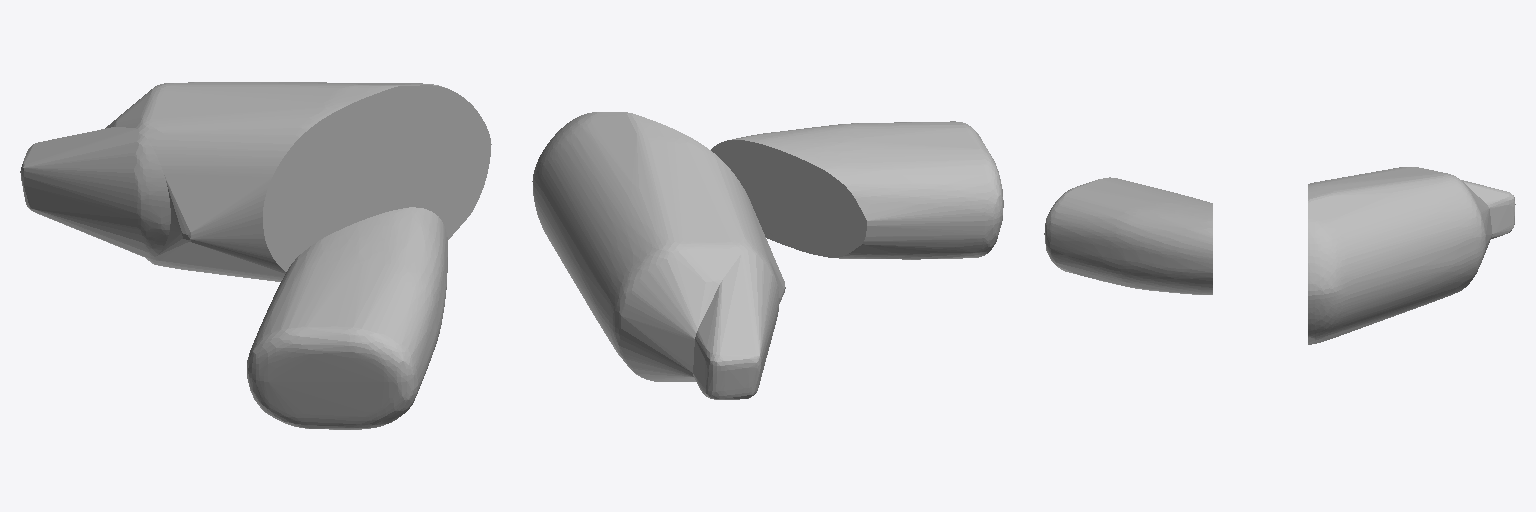
URDF robot description (root):
<robot name="root">
  <link name="link_coacd_convex_piece_0">
    <inertial>
      <origin xyz="0 0 0" rpy="0 0 0"/>
      <inertia ixx="1.12E-08" ixy="2.76E-09" ixz="-8.21E-10" iyy="1.61E-08" iyz="-2.81E-09" izz="2.12E-08"/>
    </inertial>
    <visual>
      <origin xyz="0 0 0" rpy="0 0 0"/>
      <geometry>
        <mesh filename="coacd_convex_piece_0.obj" scale="1.0000E+00 1.0000E+00 1.0000E+00"/>
      </geometry>
      <material name="">
        <color rgba="7.50E-01 7.50E-01 7.50E-01 1"/>
      </material>
    </visual>
    <collision>
      <origin xyz="0 0 0" rpy="0 0 0"/>
      <geometry>
        <mesh filename="coacd_convex_piece_0.obj" scale="1.0000E+00 1.0000E+00 1.0000E+00"/>
      </geometry>
    </collision>
  </link>
  <link name="link_coacd_convex_piece_1">
    <inertial>
      <origin xyz="0 0 0" rpy="0 0 0"/>
      <inertia ixx="2.58E-07" ixy="-1.01E-07" ixz="-1.90E-08" iyy="7.35E-08" iyz="-4.38E-08" izz="3.06E-07"/>
    </inertial>
    <visual>
      <origin xyz="0 0 0" rpy="0 0 0"/>
      <geometry>
        <mesh filename="coacd_convex_piece_1.obj" scale="1.0000E+00 1.0000E+00 1.0000E+00"/>
      </geometry>
      <material name="">
        <color rgba="7.50E-01 7.50E-01 7.50E-01 1"/>
      </material>
    </visual>
    <collision>
      <origin xyz="0 0 0" rpy="0 0 0"/>
      <geometry>
        <mesh filename="coacd_convex_piece_1.obj" scale="1.0000E+00 1.0000E+00 1.0000E+00"/>
      </geometry>
    </collision>
  </link>
  <joint name="link_coacd_convex_piece_1_joint" type="fixed">
    <origin xyz="0 0 0" rpy="0 0 0"/>
    <parent link="link_coacd_convex_piece_0"/>
    <child link="link_coacd_convex_piece_1"/>
  </joint>
  <link name="link_coacd_convex_piece_2">
    <inertial>
      <origin xyz="0 0 0" rpy="0 0 0"/>
      <inertia ixx="6.75E-08" ixy="4.12E-08" ixz="-4.39E-09" iyy="2.76E-08" iyz="6.67E-09" izz="9.23E-08"/>
    </inertial>
    <visual>
      <origin xyz="0 0 0" rpy="0 0 0"/>
      <geometry>
        <mesh filename="coacd_convex_piece_2.obj" scale="1.0000E+00 1.0000E+00 1.0000E+00"/>
      </geometry>
      <material name="">
        <color rgba="7.50E-01 7.50E-01 7.50E-01 1"/>
      </material>
    </visual>
    <collision>
      <origin xyz="0 0 0" rpy="0 0 0"/>
      <geometry>
        <mesh filename="coacd_convex_piece_2.obj" scale="1.0000E+00 1.0000E+00 1.0000E+00"/>
      </geometry>
    </collision>
  </link>
  <joint name="link_coacd_convex_piece_2_joint" type="fixed">
    <origin xyz="0 0 0" rpy="0 0 0"/>
    <parent link="link_coacd_convex_piece_1"/>
    <child link="link_coacd_convex_piece_2"/>
  </joint>
  <link name="link_coacd_convex_piece_3">
    <inertial>
      <origin xyz="0 0 0" rpy="0 0 0"/>
      <inertia ixx="5.58E-09" ixy="-3.90E-09" ixz="-5.80E-10" iyy="2.93E-08" iyz="-6.93E-10" izz="2.38E-08"/>
    </inertial>
    <visual>
      <origin xyz="0 0 0" rpy="0 0 0"/>
      <geometry>
        <mesh filename="coacd_convex_piece_3.obj" scale="1.0000E+00 1.0000E+00 1.0000E+00"/>
      </geometry>
      <material name="">
        <color rgba="7.50E-01 7.50E-01 7.50E-01 1"/>
      </material>
    </visual>
    <collision>
      <origin xyz="0 0 0" rpy="0 0 0"/>
      <geometry>
        <mesh filename="coacd_convex_piece_3.obj" scale="1.0000E+00 1.0000E+00 1.0000E+00"/>
      </geometry>
    </collision>
  </link>
  <joint name="link_coacd_convex_piece_3_joint" type="fixed">
    <origin xyz="0 0 0" rpy="0 0 0"/>
    <parent link="link_coacd_convex_piece_2"/>
    <child link="link_coacd_convex_piece_3"/>
  </joint>
  <link name="link_coacd_convex_piece_4">
    <inertial>
      <origin xyz="0 0 0" rpy="0 0 0"/>
      <inertia ixx="3.58E-09" ixy="1.65E-09" ixz="-6.92E-10" iyy="2.64E-08" iyz="-7.59E-10" izz="2.14E-08"/>
    </inertial>
    <visual>
      <origin xyz="0 0 0" rpy="0 0 0"/>
      <geometry>
        <mesh filename="coacd_convex_piece_4.obj" scale="1.0000E+00 1.0000E+00 1.0000E+00"/>
      </geometry>
      <material name="">
        <color rgba="7.50E-01 7.50E-01 7.50E-01 1"/>
      </material>
    </visual>
    <collision>
      <origin xyz="0 0 0" rpy="0 0 0"/>
      <geometry>
        <mesh filename="coacd_convex_piece_4.obj" scale="1.0000E+00 1.0000E+00 1.0000E+00"/>
      </geometry>
    </collision>
  </link>
  <joint name="link_coacd_convex_piece_4_joint" type="fixed">
    <origin xyz="0 0 0" rpy="0 0 0"/>
    <parent link="link_coacd_convex_piece_3"/>
    <child link="link_coacd_convex_piece_4"/>
  </joint>
  <link name="link_coacd_convex_piece_5">
    <inertial>
      <origin xyz="0 0 0" rpy="0 0 0"/>
      <inertia ixx="3.18E-07" ixy="1.43E-08" ixz="-5.58E-09" iyy="1.11E-07" iyz="1.67E-08" izz="3.67E-07"/>
    </inertial>
    <visual>
      <origin xyz="0 0 0" rpy="0 0 0"/>
      <geometry>
        <mesh filename="coacd_convex_piece_5.obj" scale="1.0000E+00 1.0000E+00 1.0000E+00"/>
      </geometry>
      <material name="">
        <color rgba="7.50E-01 7.50E-01 7.50E-01 1"/>
      </material>
    </visual>
    <collision>
      <origin xyz="0 0 0" rpy="0 0 0"/>
      <geometry>
        <mesh filename="coacd_convex_piece_5.obj" scale="1.0000E+00 1.0000E+00 1.0000E+00"/>
      </geometry>
    </collision>
  </link>
  <joint name="link_coacd_convex_piece_5_joint" type="fixed">
    <origin xyz="0 0 0" rpy="0 0 0"/>
    <parent link="link_coacd_convex_piece_4"/>
    <child link="link_coacd_convex_piece_5"/>
  </joint>
</robot>

--- Facts derived from the render (not from the file) ---
The picture shows the robot from 3 angles, left to right: view 1: azimuth 30°, elevation 25°; view 2: azimuth 150°, elevation 25°; view 3: azimuth 270°, elevation 25°; orthographic projection.
Model root with 6 links and 5 joints (5 fixed), rooted at link_coacd_convex_piece_0, posed all joints at 0.
Links seen in each view (by area): view 1: link_coacd_convex_piece_5, link_coacd_convex_piece_1, link_coacd_convex_piece_2; view 2: link_coacd_convex_piece_5, link_coacd_convex_piece_1, link_coacd_convex_piece_2; view 3: link_coacd_convex_piece_5, link_coacd_convex_piece_1, link_coacd_convex_piece_2.
Link boxes in pixels (x1,y1,x2,y2): link_coacd_convex_piece_5: (105, 82, 491, 281); link_coacd_convex_piece_1: (247, 207, 447, 429); link_coacd_convex_piece_2: (20, 127, 170, 258); link_coacd_convex_piece_5: (532, 112, 785, 381); link_coacd_convex_piece_1: (711, 121, 1003, 259); link_coacd_convex_piece_2: (693, 247, 779, 399); link_coacd_convex_piece_5: (1308, 167, 1492, 344); link_coacd_convex_piece_1: (1044, 177, 1212, 294); link_coacd_convex_piece_2: (1461, 180, 1515, 238).
Size in the robot's own frame: 0.122 by 0.183 by 0.061 metres.
Meshes: 6 distinct files referenced, 3 mesh visuals loaded (3 OBJ); not drawn: 3 (reference not matched to a file when rendering).